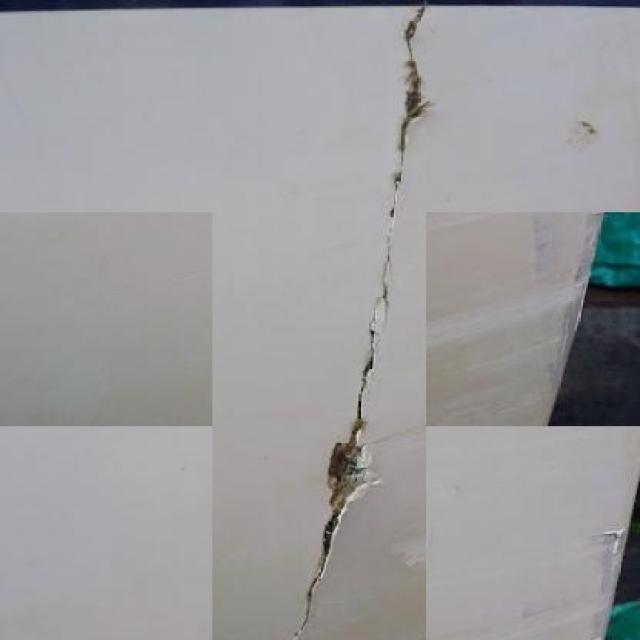crack: (298, 326, 374, 634), (385, 8, 425, 319)
